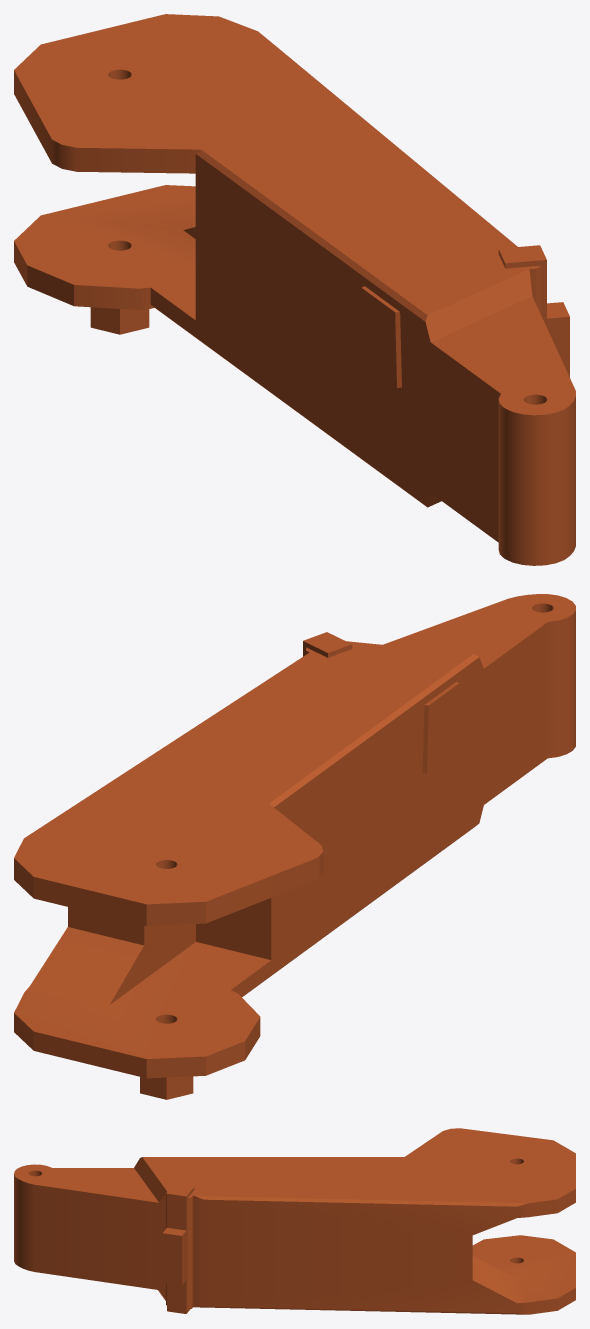
3 views of the same model, one above another, from view 1: azimuth 30°, elevation 25°; view 2: azimuth 150°, elevation 25°; view 3: azimuth 270°, elevation 25° (orthographic). The views are drawn at different scales.
Parts seen in each view (by area): view 1: Link_2; view 2: Link_2; view 3: Link_2.
Boxes of the visible parts, x1=… form: Link_2: x1=14, y1=14, x2=575, y2=565; Link_2: x1=14, y1=594, x2=575, y2=1099; Link_2: x1=14, y1=1128, x2=575, y2=1314.
Size of the model in its own units: 0.2661 by 0.235 by 0.8223.
